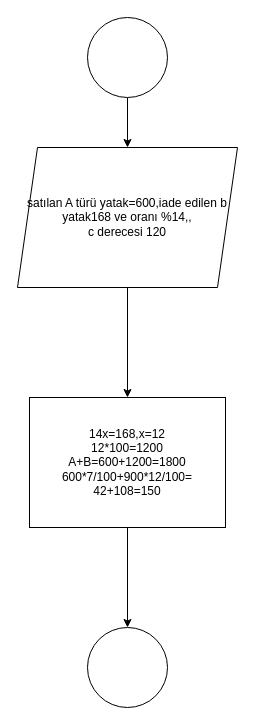
This 255x725 diagram has some shape labels left out. The shapes that lost their labels are listed below. From the top down, each one's box as (x1, y1, x2, y2) in pixels, then its label:
(86, 16, 168, 98): BAŞLA
(86, 626, 168, 708): DUR
